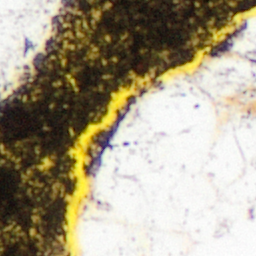cement_matrix: (0, 0, 255, 255), (88, 130, 110, 169), (42, 160, 49, 167)
cracks: (56, 6, 255, 255), (87, 129, 111, 170)
gravel_crushed_stones: (74, 14, 255, 255), (0, 0, 67, 101), (43, 161, 48, 166)
